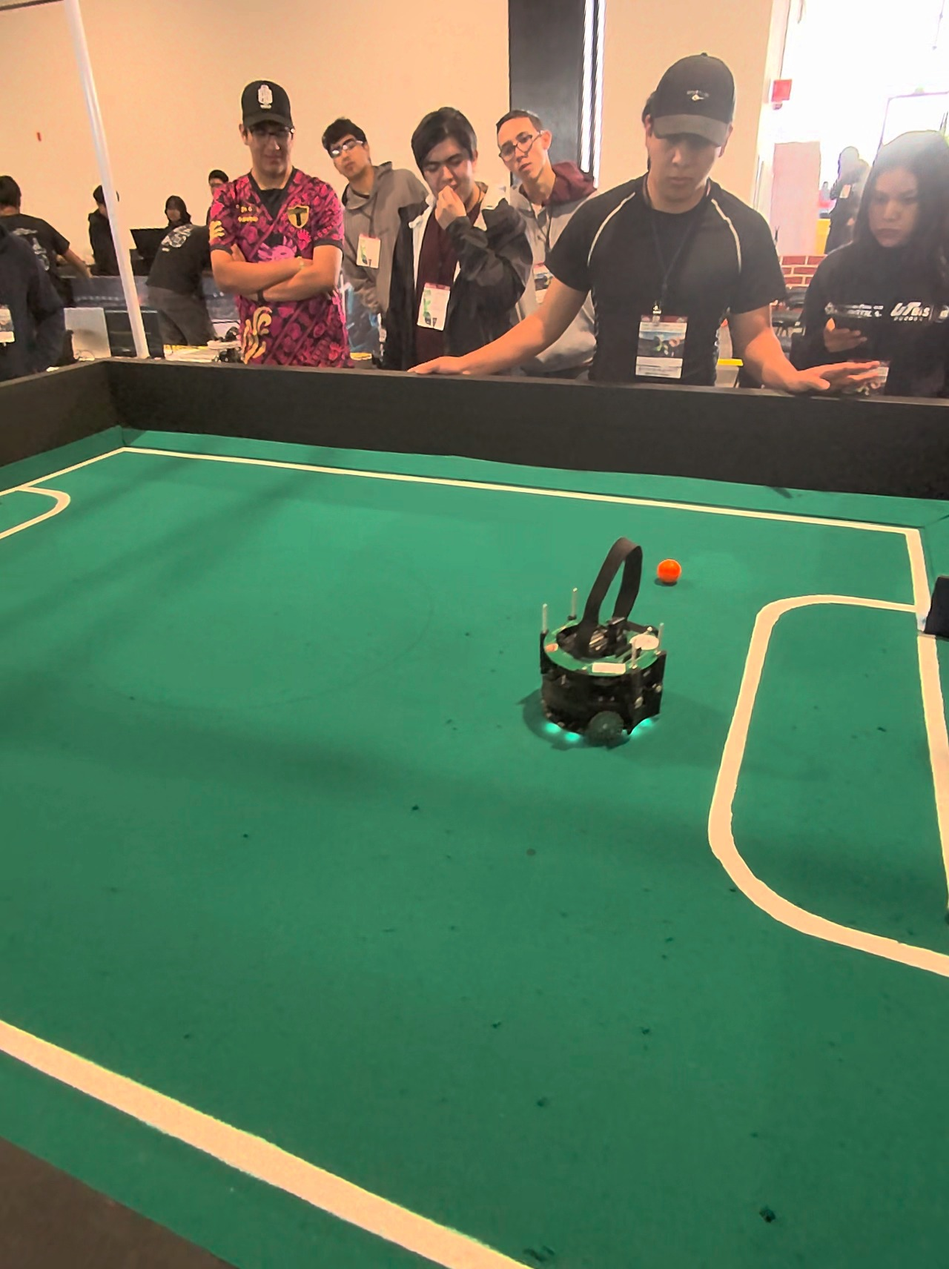Robot: (522, 528, 671, 769)
pelota: (660, 550, 683, 591)
